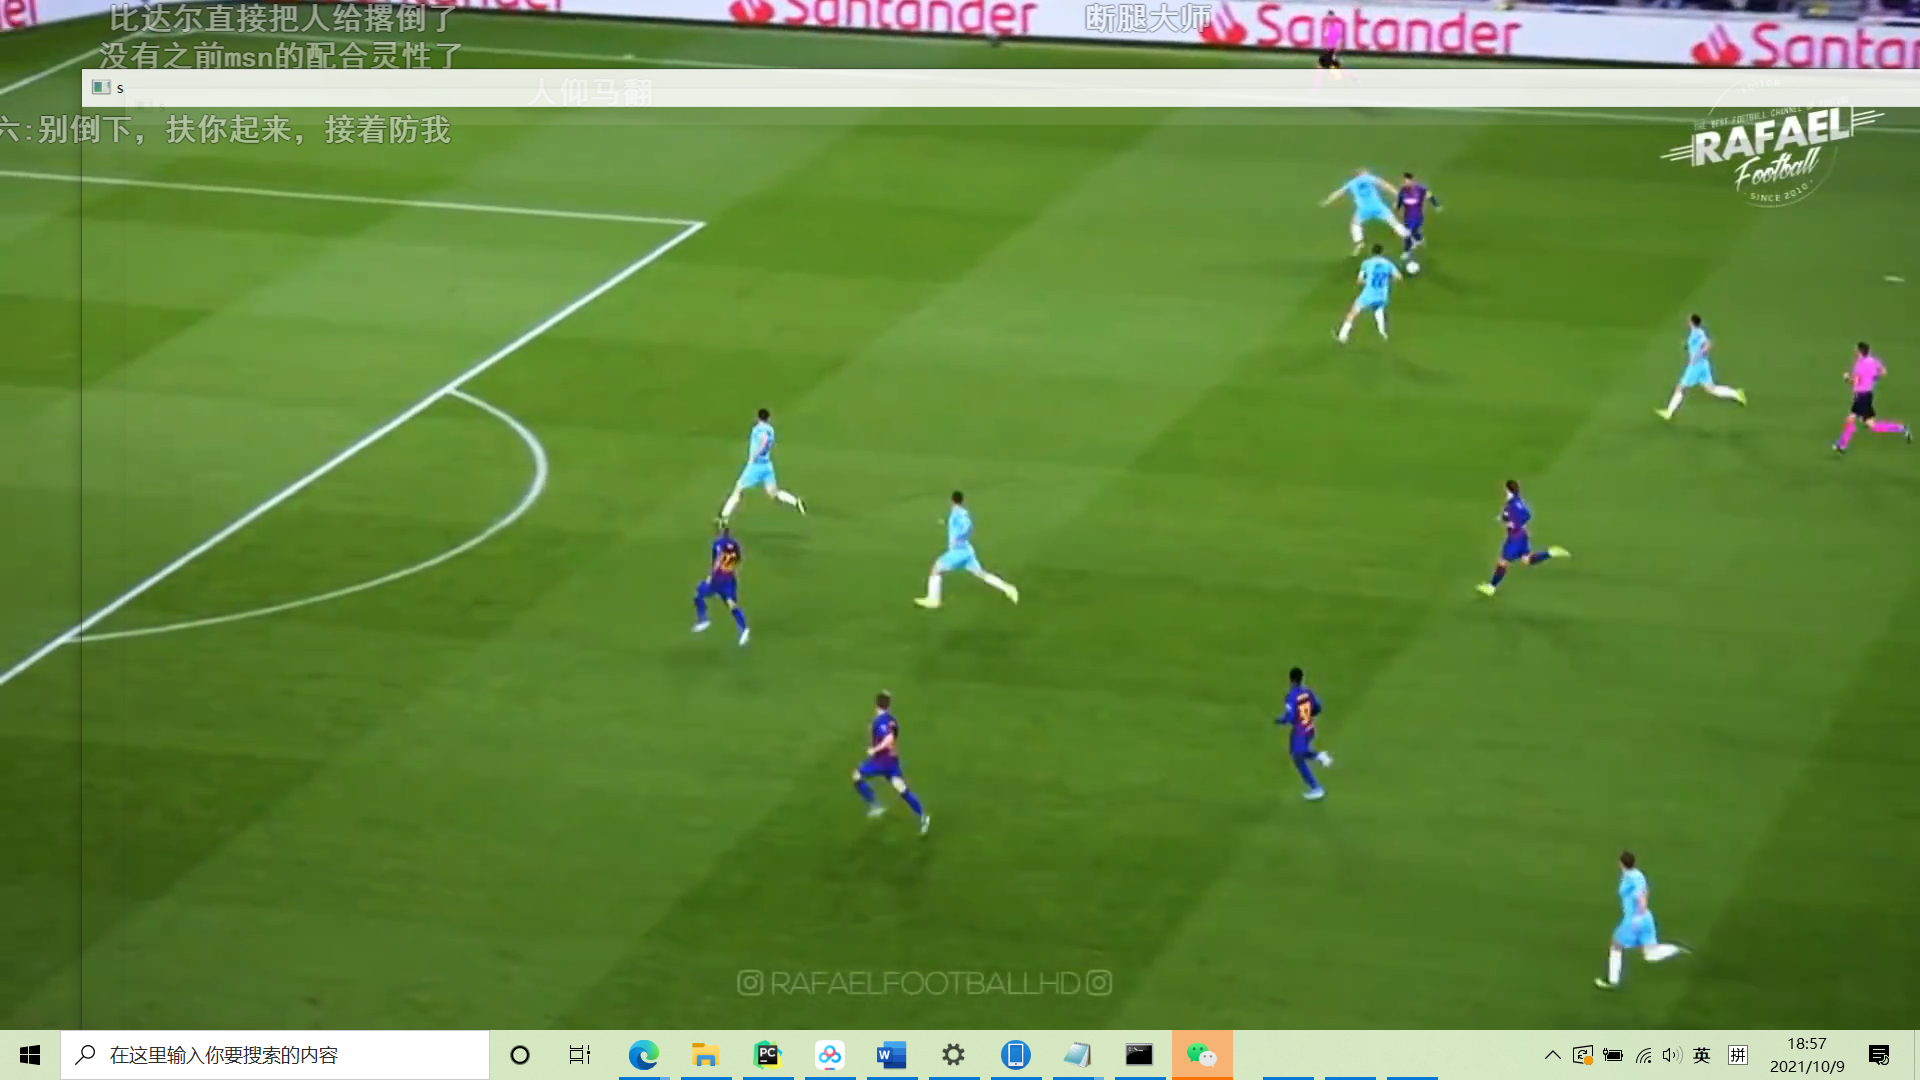ft: (1406, 258, 1422, 276)
